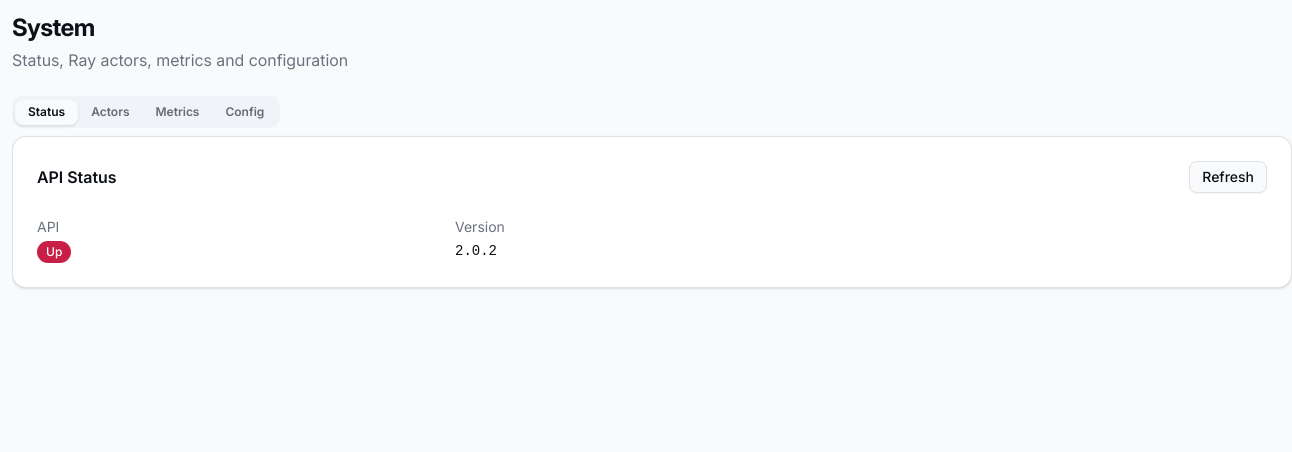
it: SystemPage Grafana action › keeps the Grafana action visible while metrics are loading
The width and height of the screenshot is (1292, 452).
Click the tab "Metrics": (178,112) [142,100,212,124]
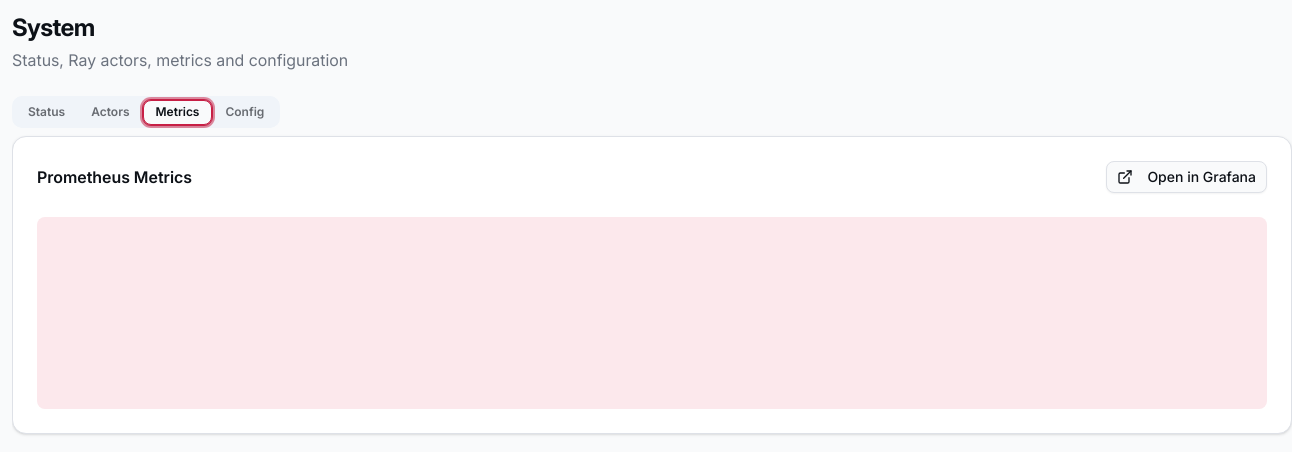
Now the link with aria-label "Open metrics dashboard in Grafana (opens in a new tab)" is shown, box [1106,161,1267,193]
